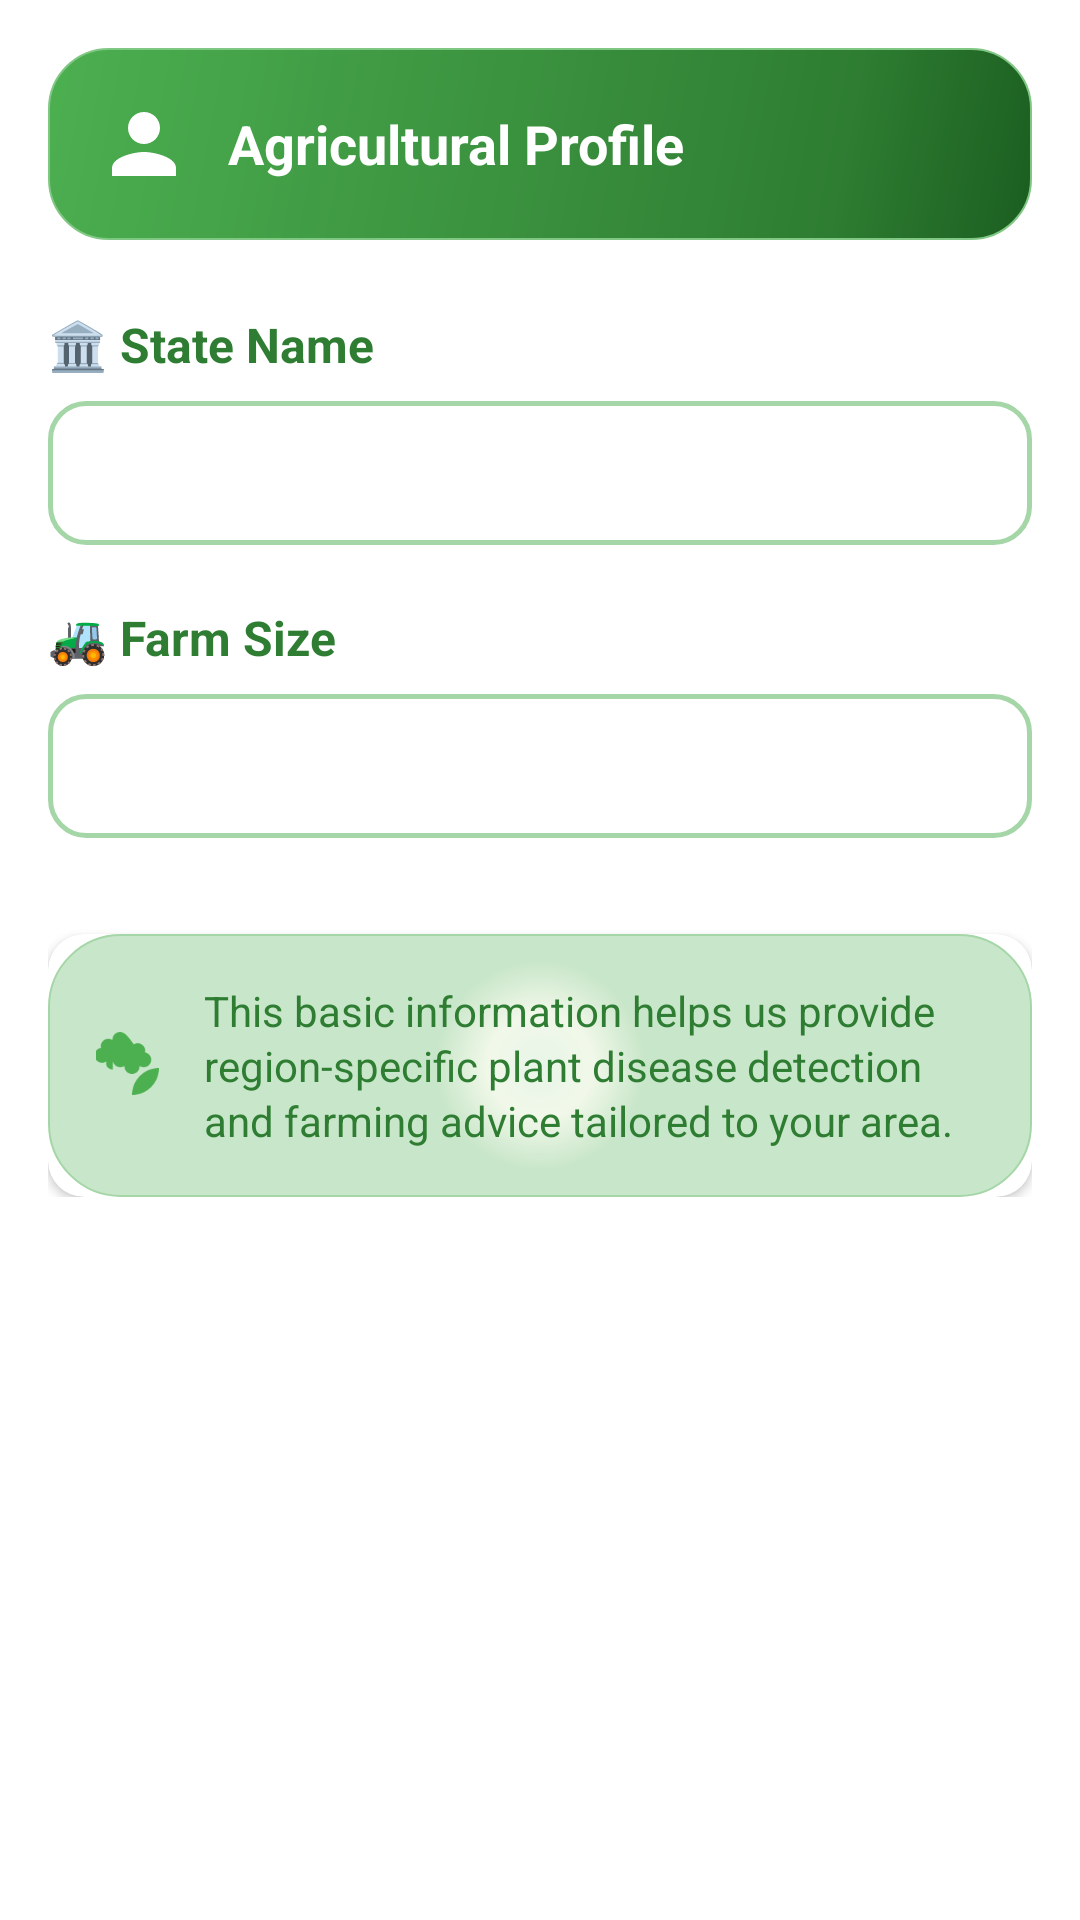

Icons on this 1080w x 1920h Android screen, each with its box as (x1, y1, x2, y2):
local florist: (96, 1032, 159, 1095)
person: (112, 112, 176, 176)
